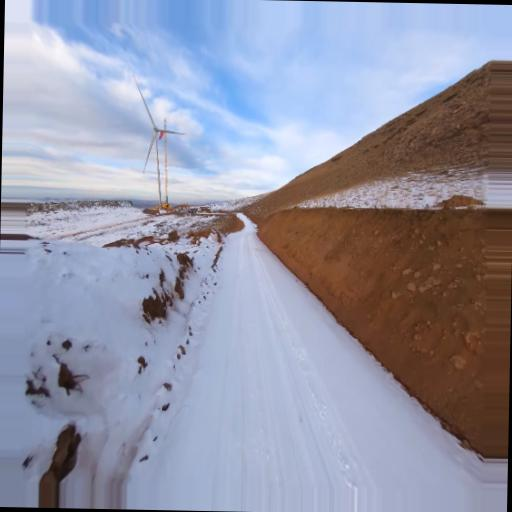wind turbine: (134, 79, 186, 208)
